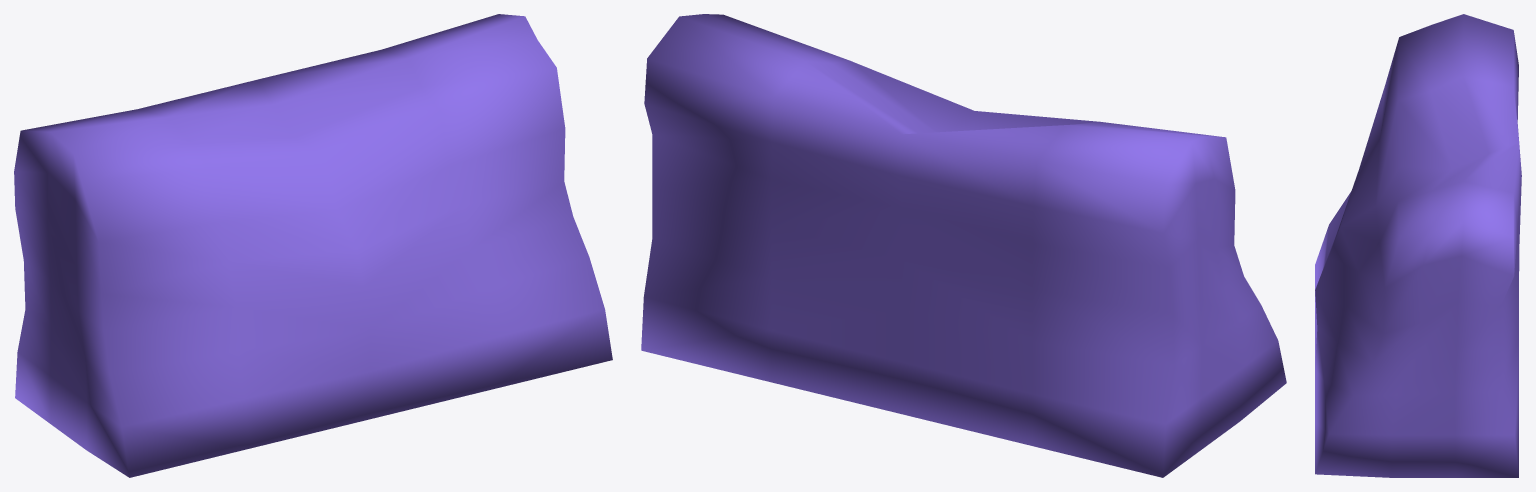
Rendered from pillowOne.fbx.
3 renders of one model, left to right at view 1: azimuth 30°, elevation 25°; view 2: azimuth 150°, elevation 25°; view 3: azimuth 270°, elevation 25°, orthographic. The views are drawn at different scales.
Parts seen in each view (by area): view 1: Cube.002; view 2: Cube.002; view 3: Cube.002.
Part boxes in pixels (x1,y1,x2,y2): Cube.002: [14, 14, 612, 477]; Cube.002: [641, 14, 1286, 477]; Cube.002: [1315, 14, 1521, 477].
Size of the model in its own units: 143 by 80.81 by 59.15.
